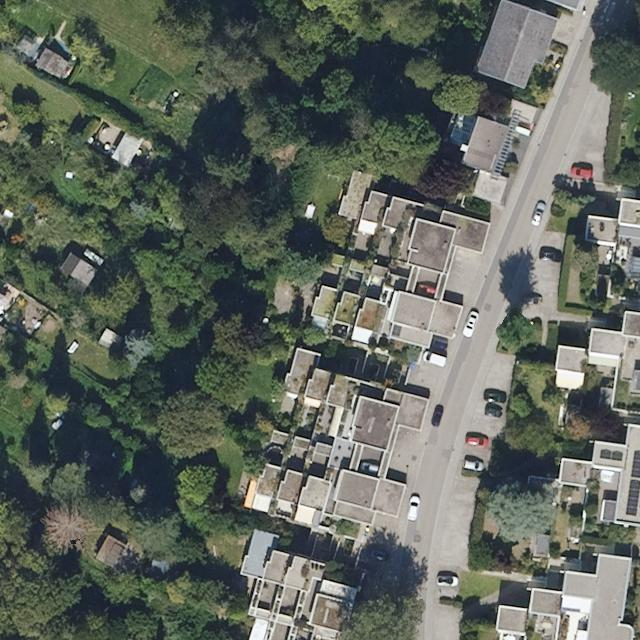PV: (622, 448, 639, 520)
